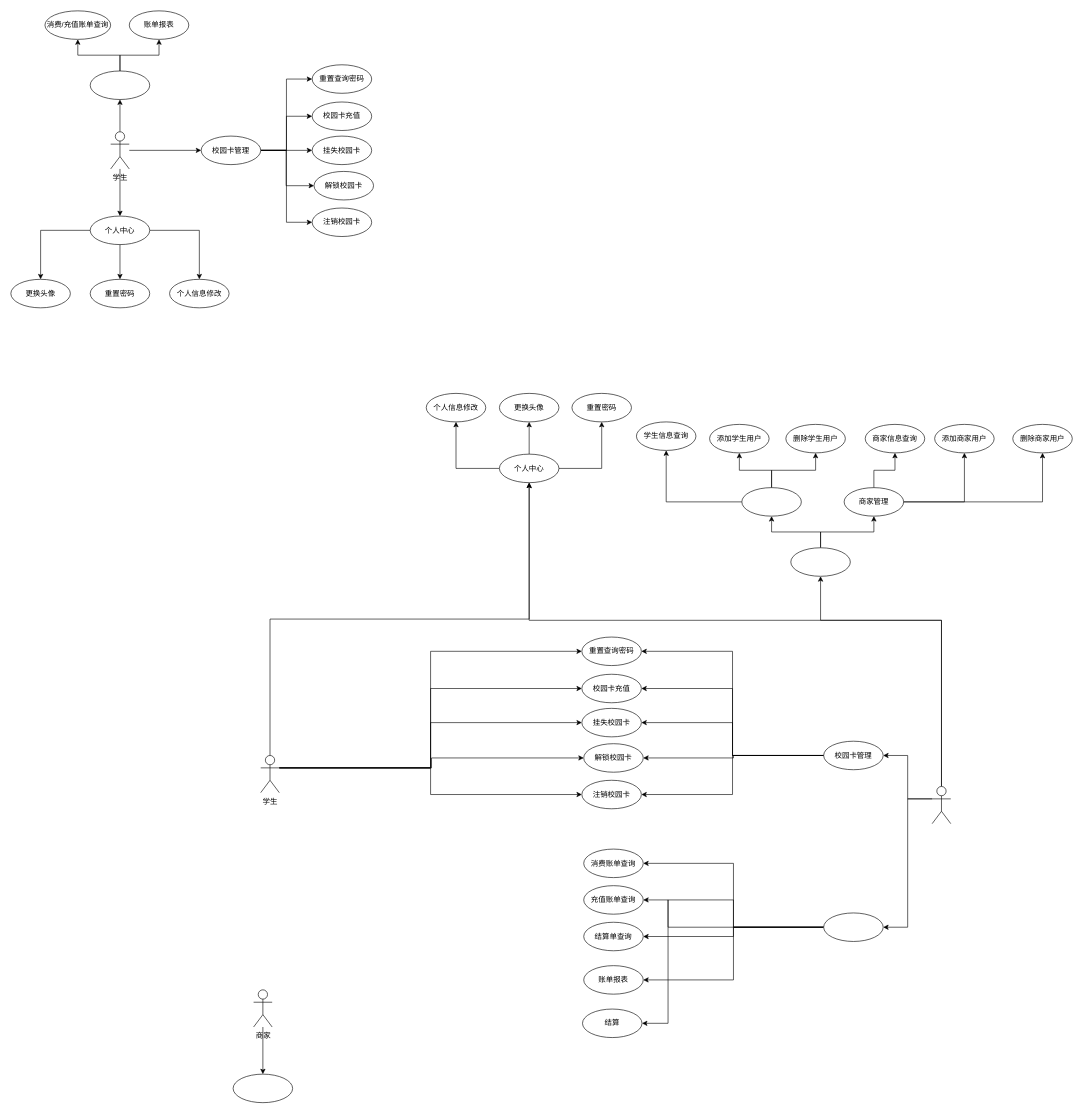
Image size: 1083x1114. Some labels were removed from this diagram. The box of each missing label's shape, as (x1, y1, x2, y2) in pixels:
个人账单: (90, 70, 150, 100)
学生管理: (741, 487, 801, 516)
消费功能: (232, 1074, 293, 1103)
用户管理: (790, 547, 850, 576)
管理员: (932, 786, 951, 824)
账单管理: (823, 912, 883, 941)
